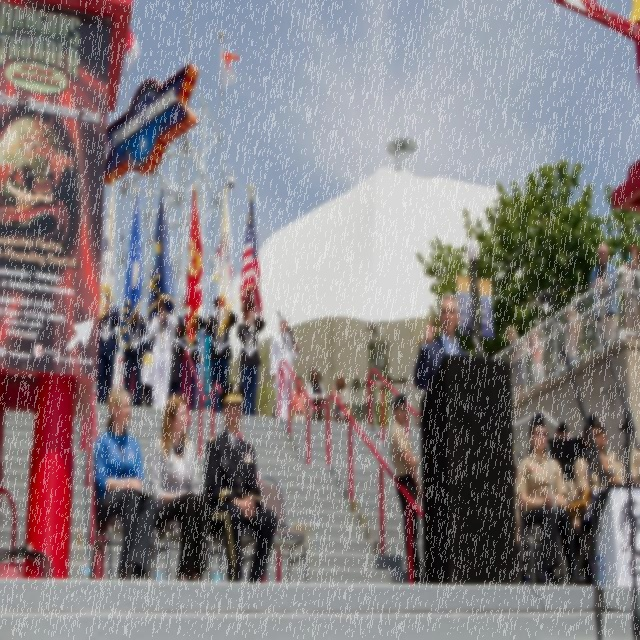pessoa: (204, 382, 278, 584), (92, 386, 158, 586), (150, 393, 210, 582), (514, 411, 578, 588), (389, 392, 432, 586), (574, 412, 626, 534), (413, 291, 471, 391), (1, 152, 62, 226), (175, 292, 208, 416), (204, 295, 238, 415), (269, 315, 300, 430), (236, 299, 266, 417), (589, 241, 618, 352), (96, 300, 122, 404), (122, 306, 148, 408), (619, 244, 640, 340), (600, 423, 628, 485), (506, 326, 530, 398), (562, 306, 584, 372), (524, 326, 546, 388), (563, 478, 580, 556), (138, 335, 156, 408), (167, 328, 182, 402), (306, 368, 326, 422), (330, 374, 350, 422), (513, 440, 521, 550), (624, 438, 640, 488), (290, 376, 306, 420), (554, 421, 570, 439), (272, 398, 278, 418), (316, 372, 322, 384)
